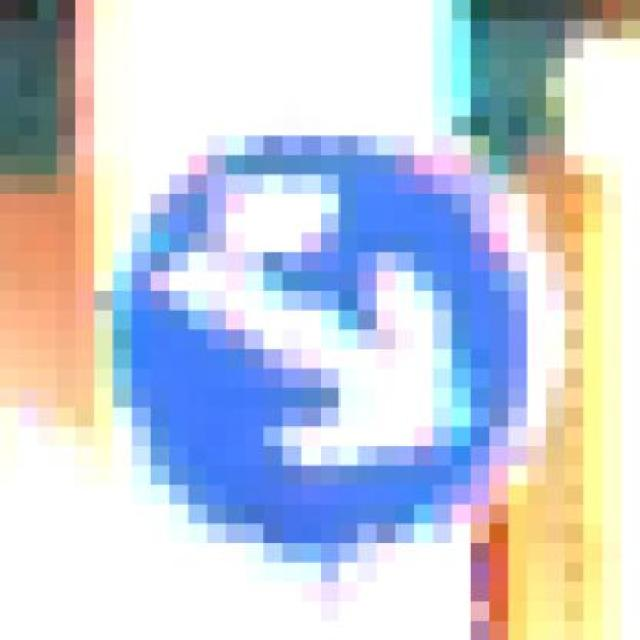Keep-Right: (76, 97, 564, 543)
